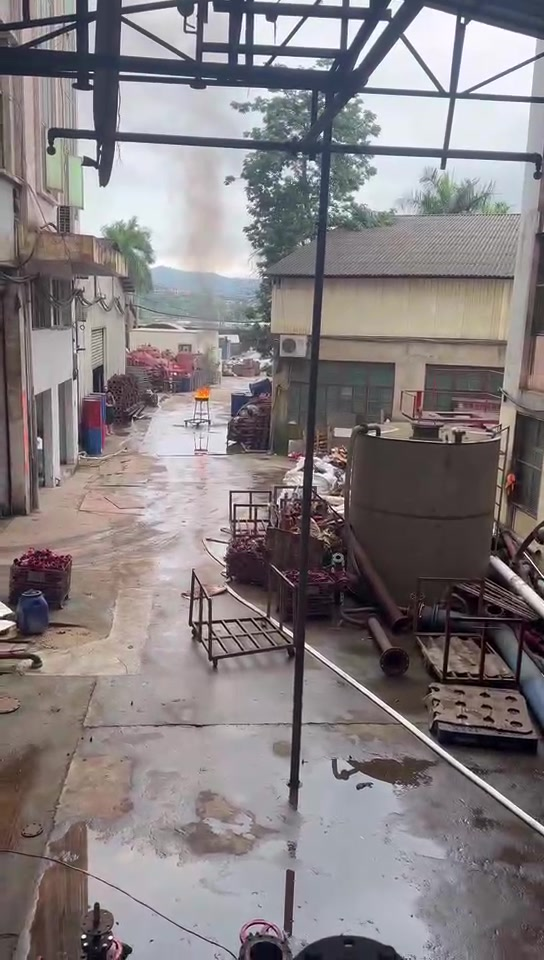fire: (194, 385, 209, 398)
